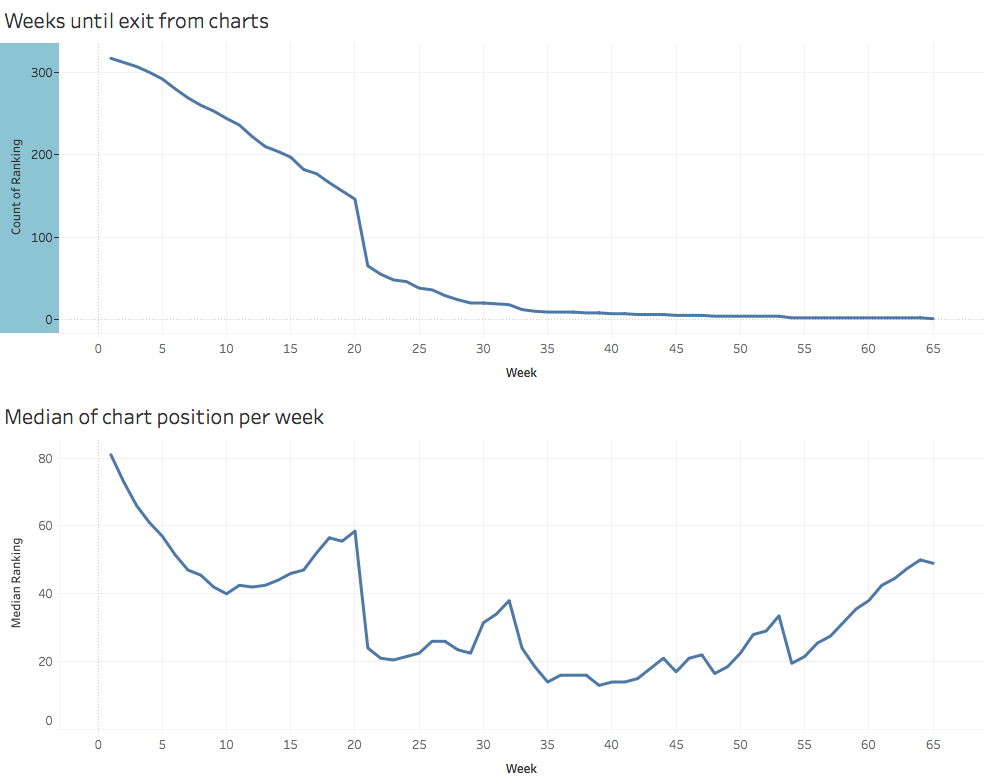

What the dashboard file says about the page in this screenshot:
{"tool":"tableau","page":{"name":"Dashboard 3","canvas":[1000,800],"ordinal":2},"visuals":[{"type":"worksheet","title":"Weeks until exit from charts","mark":"Automatic","rows":["Ranking"],"cols":["Week"],"box":[0,0,1000,400]},{"type":"worksheet","title":"Median of chart position per week","mark":"Automatic","rows":["Ranking"],"cols":["Week"],"box":[0,400,1000,400]}]}

Visuals, with their boxes in screenshot pixels (x1, y1, x2, y2), scaled from the page's 1000x800 canvas onto the 984x784 screenshot:
"Weeks until exit from charts" worksheet: 0 0 983 392
"Median of chart position per week" worksheet: 0 392 983 783
